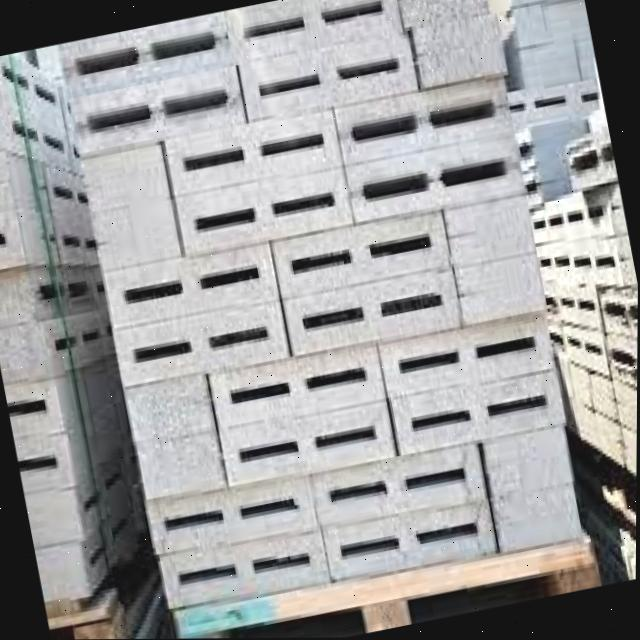bricks: (61, 0, 578, 606)
